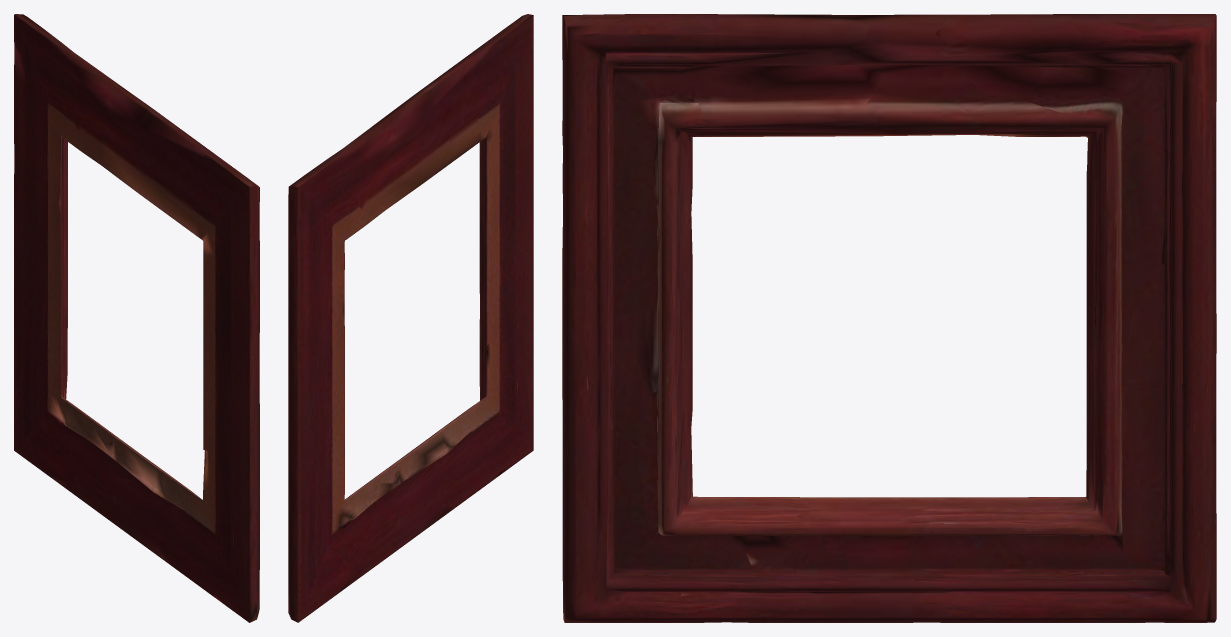
Rendered from 装饰木质边框.glb.
3 renders of one model, left to right at view 1: azimuth 30°, elevation 25°; view 2: azimuth 150°, elevation 25°; view 3: azimuth 270°, elevation 25°, orthographic. The views are drawn at different scales.
Visible parts, largest first — view 1: tripo_node_9eb113c4-4c05-443e-a891-6d00a62faff5; view 2: tripo_node_9eb113c4-4c05-443e-a891-6d00a62faff5; view 3: tripo_node_9eb113c4-4c05-443e-a891-6d00a62faff5.
Part boxes in pixels (bbox=[...]): tripo_node_9eb113c4-4c05-443e-a891-6d00a62faff5: bbox=[14, 14, 259, 622]; tripo_node_9eb113c4-4c05-443e-a891-6d00a62faff5: bbox=[288, 14, 533, 622]; tripo_node_9eb113c4-4c05-443e-a891-6d00a62faff5: bbox=[562, 14, 1216, 622].
Size of the model in its own units: 0.0455 by 0.9999 by 0.9782.
1 material, 1 textured.
